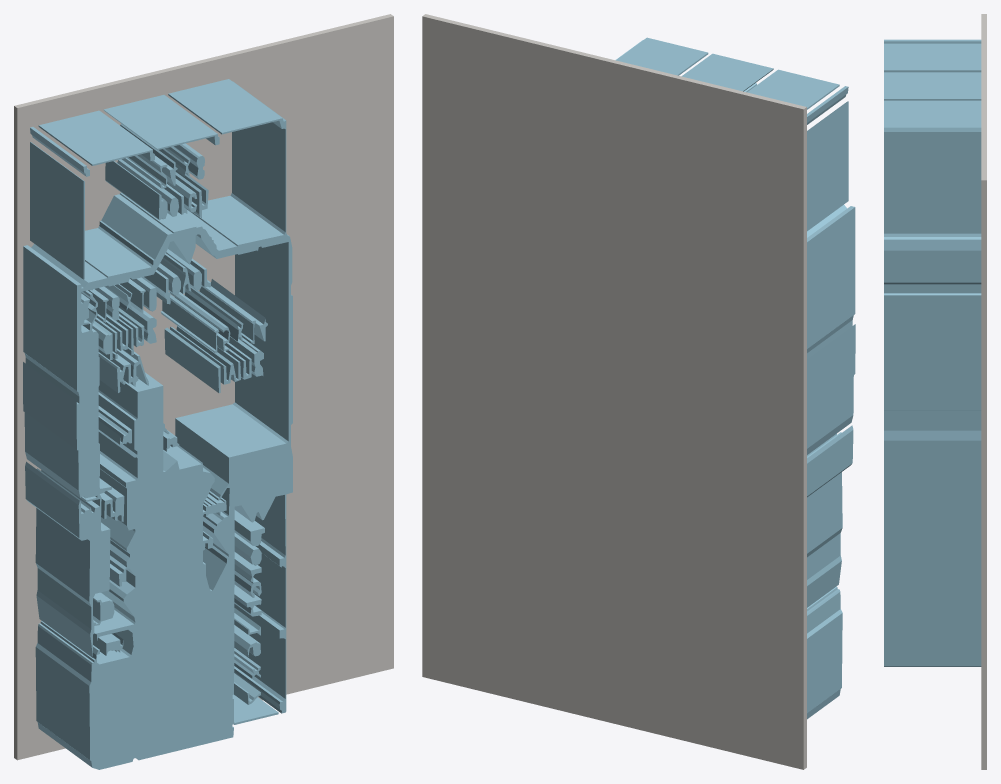
The picture shows the model from 3 angles, left to right: view 1: azimuth 30°, elevation 25°; view 2: azimuth 150°, elevation 25°; view 3: azimuth 270°, elevation 25°; orthographic projection. The views are drawn at different scales.
Parts seen in each view (by area): view 1: world; view 2: world; view 3: world.
Part boxes in pixels (x1=…): world: x1=14, y1=14, x2=393, y2=769; world: x1=422, y1=14, x2=855, y2=769; world: x1=884, y1=14, x2=986, y2=769.
Size of the model in its own units: 10.23 by 16.93 by 2.68.
